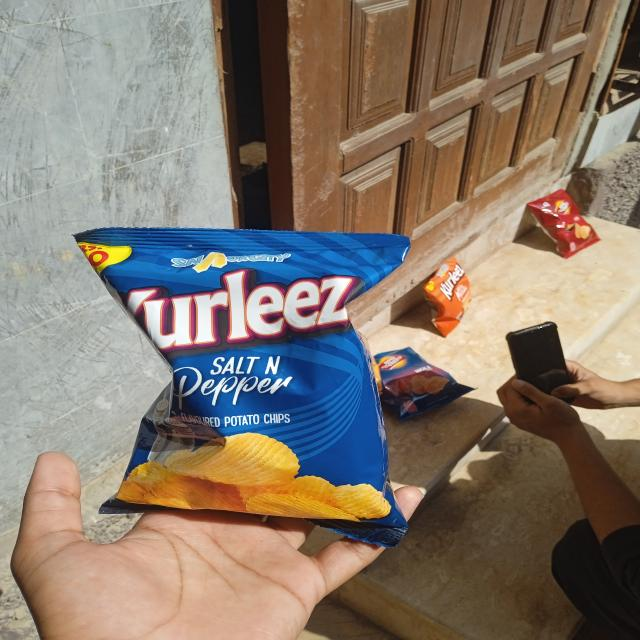Plastic: (70, 221, 437, 554)
